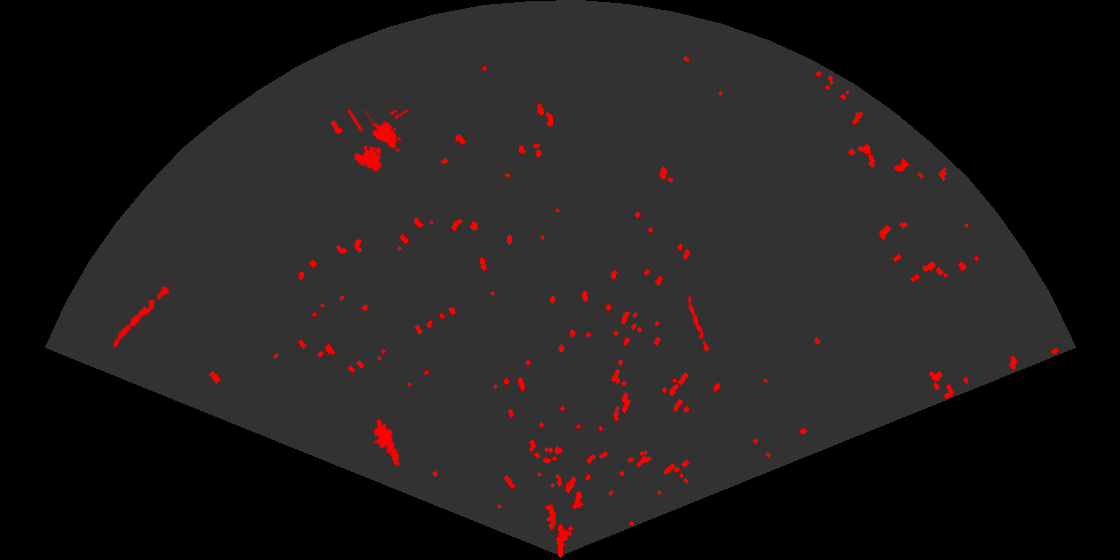cage: (345, 110, 411, 173)
chain: (111, 279, 174, 349), (686, 293, 712, 355)
frogman: (372, 420, 402, 467)
